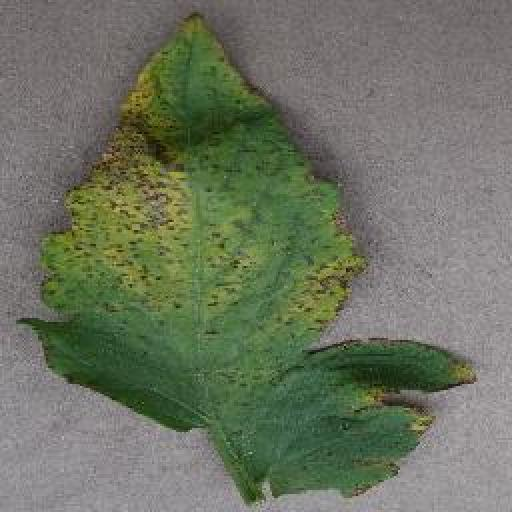Bacterial Spot: (12, 6, 484, 512)
